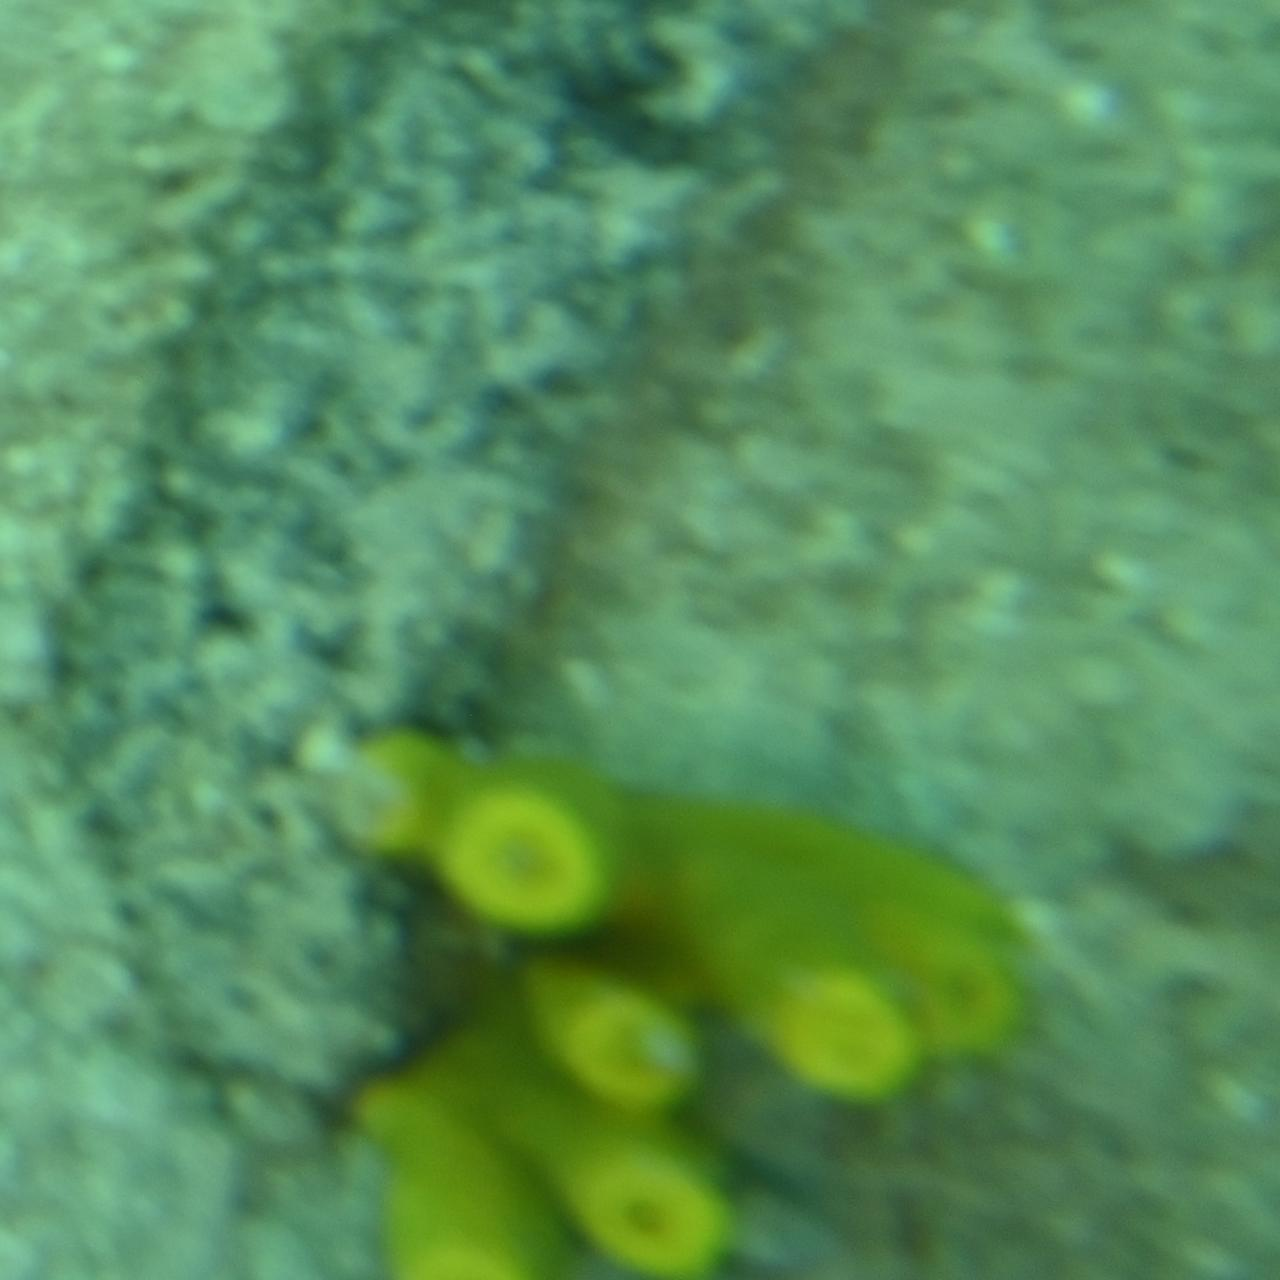Aplysina aerophoba: (345, 734, 1053, 1280)
Holothuria tubulosa: (68, 0, 1094, 867)
